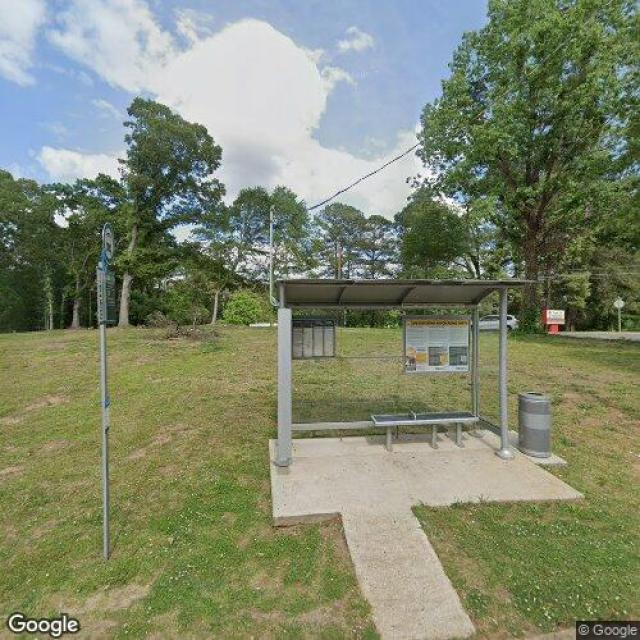seating: (370, 409, 480, 452)
shelter: (276, 278, 536, 468)
trash_can: (518, 392, 552, 459)
